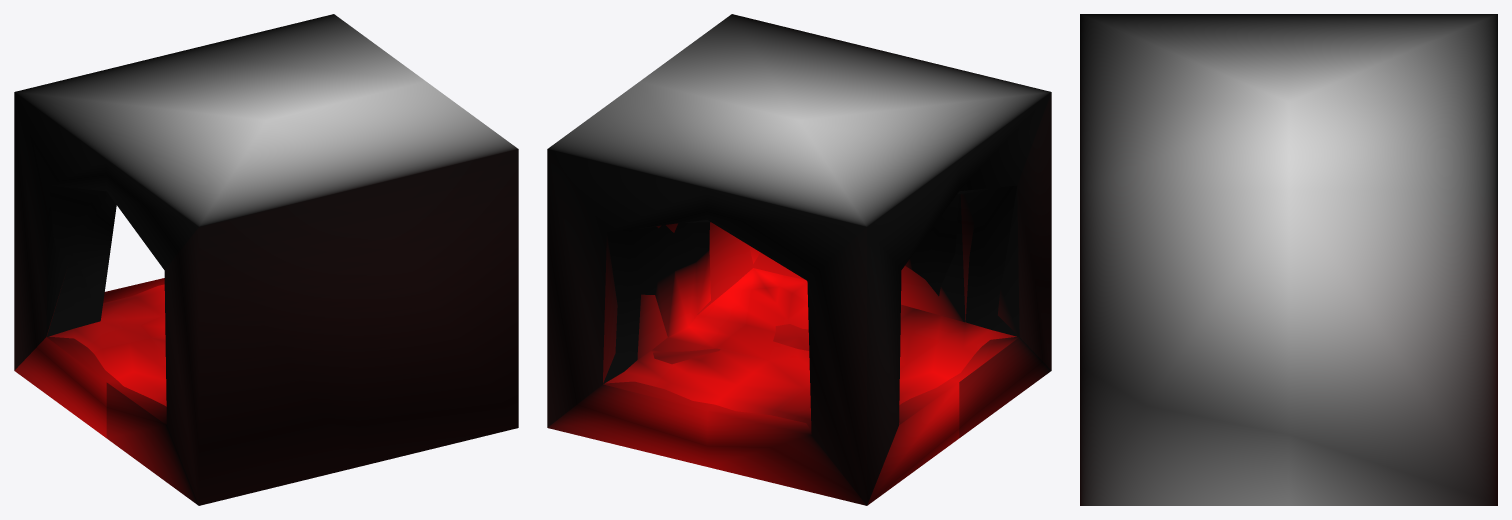
File: JD_Cave_A_Tunnel_4x4_Corner_01.fbx
The picture shows the model from 3 angles, left to right: view 1: azimuth 30°, elevation 25°; view 2: azimuth 150°, elevation 25°; view 3: azimuth 270°, elevation 25°; orthographic projection. The views are drawn at different scales.
Parts seen in each view (by area): view 1: C_JD_Cave_A_Tunnel_4x4_Corner_01, JD_Cave_A_Tunnel_4x4_Corner_01; view 2: C_JD_Cave_A_Tunnel_4x4_Corner_01, JD_Cave_A_Tunnel_4x4_Corner_01; view 3: C_JD_Cave_A_Tunnel_4x4_Corner_01.
Part boxes in pixels (x1,y1,x2,y2): C_JD_Cave_A_Tunnel_4x4_Corner_01: [14, 14, 518, 505]; JD_Cave_A_Tunnel_4x4_Corner_01: [47, 185, 166, 406]; C_JD_Cave_A_Tunnel_4x4_Corner_01: [547, 14, 1051, 505]; JD_Cave_A_Tunnel_4x4_Corner_01: [603, 185, 1018, 430]; C_JD_Cave_A_Tunnel_4x4_Corner_01: [1080, 14, 1497, 505].
Bounding box in the file's own units: 6 × 5 × 6.
